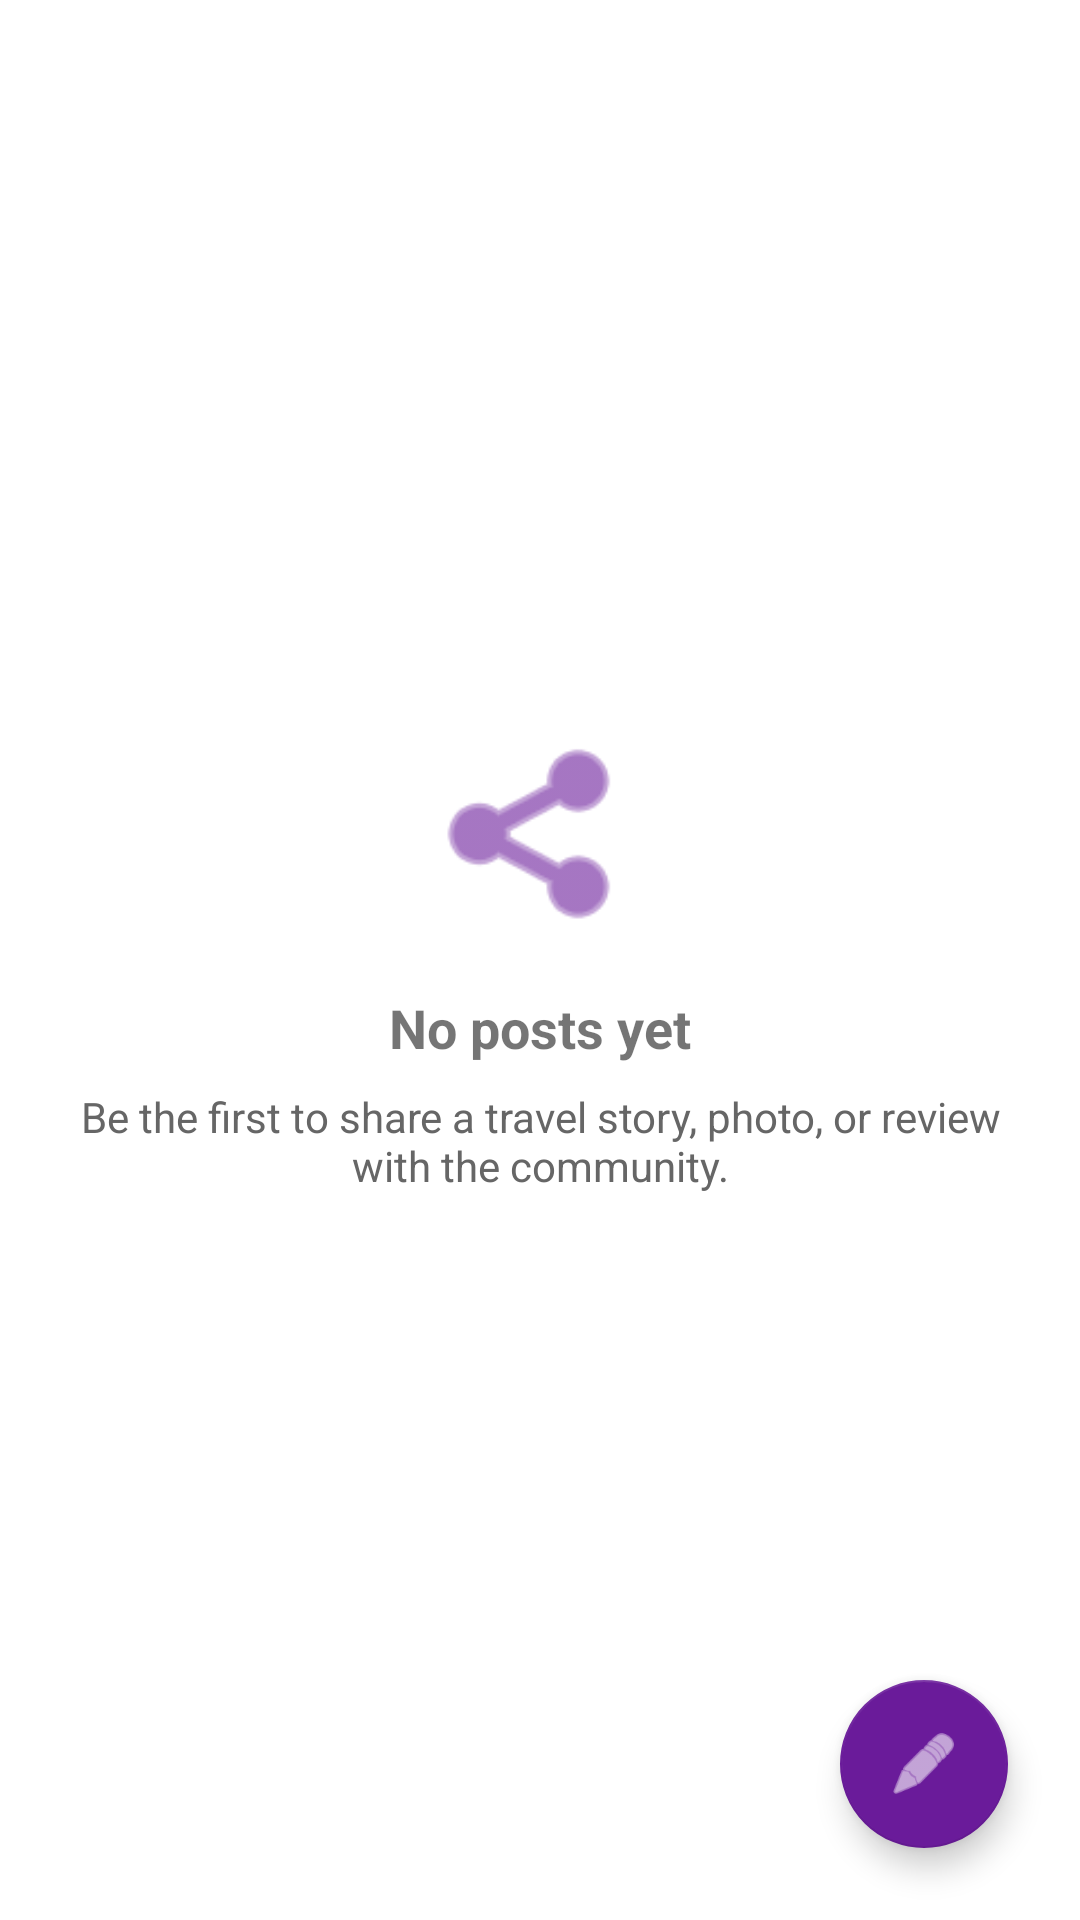

Named icons in this screenshot (1080px x 1920px) and their centers, (x,y):
edit: (924,1764)
